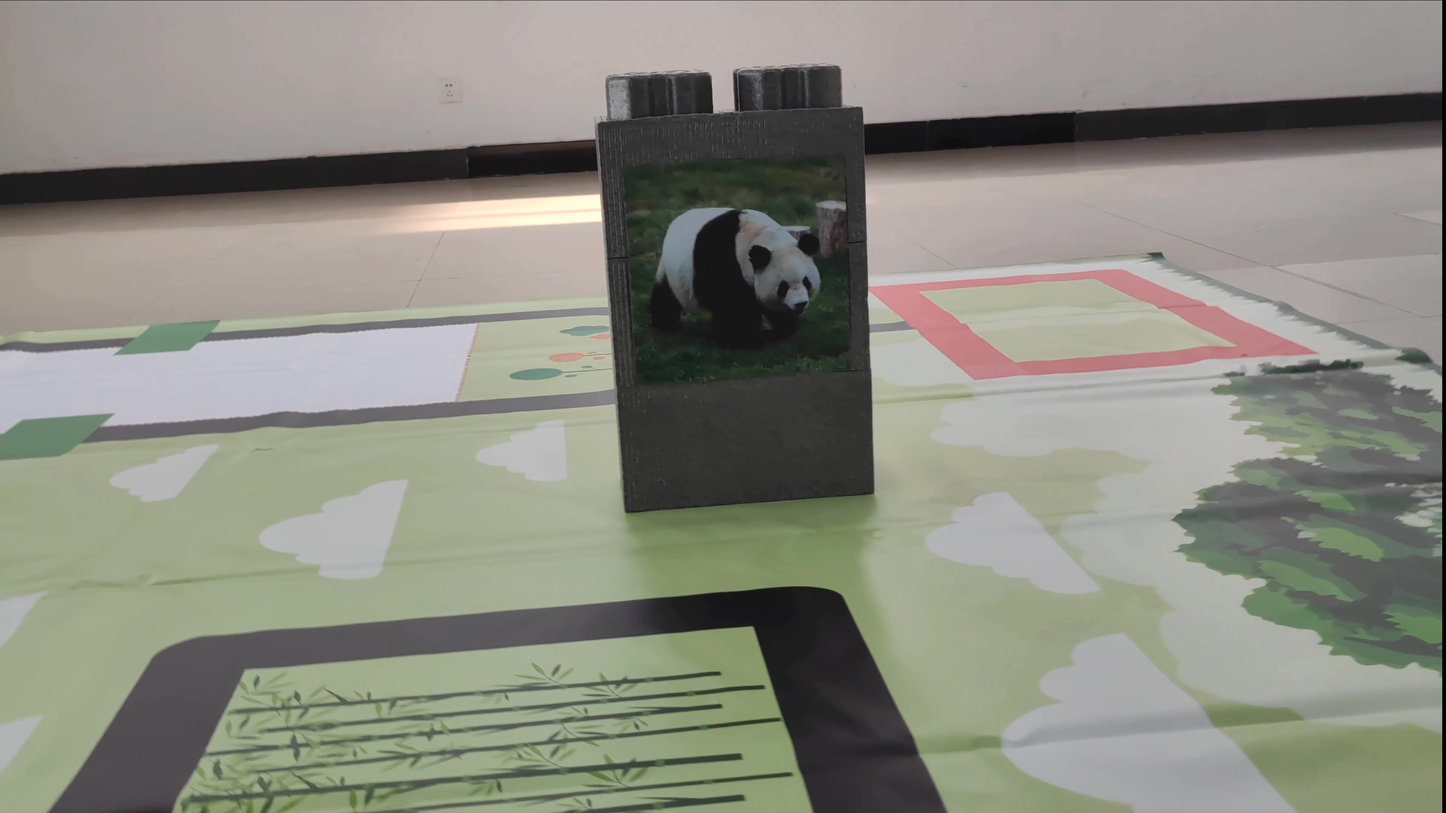panda: (645, 193, 834, 356)
